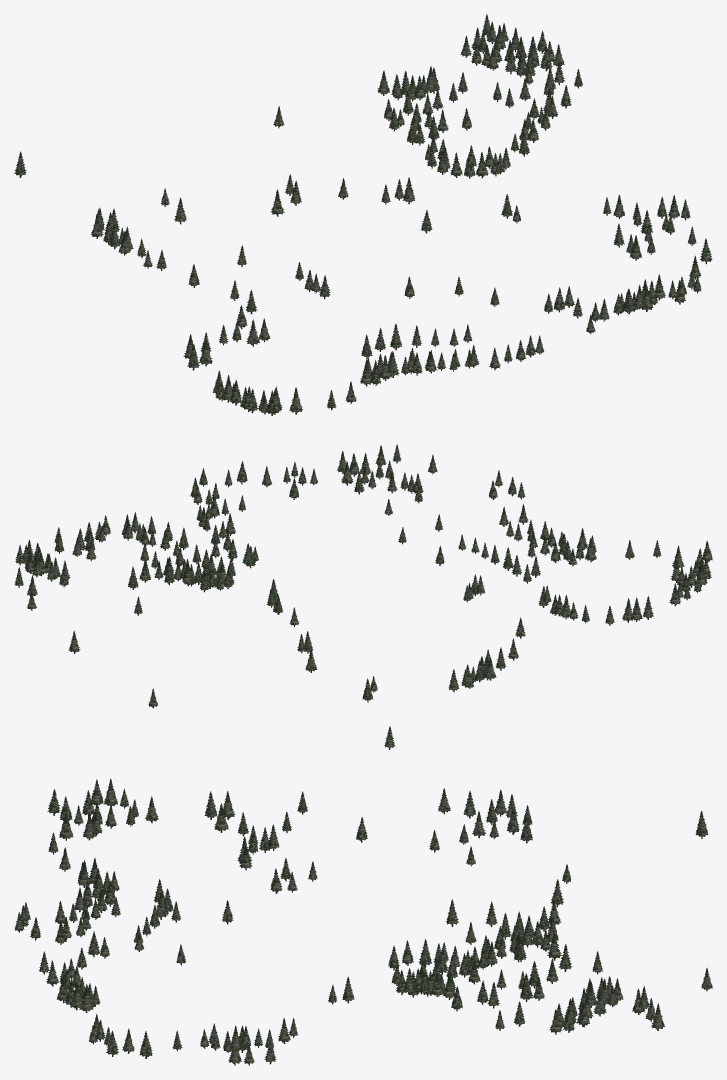
Rendered from Pinares_LOD1.glb.
3 renders of one model, top to bottom at view 1: azimuth 30°, elevation 25°; view 2: azimuth 150°, elevation 25°; view 3: azimuth 270°, elevation 25°, orthographic. The views are drawn at different scales.
Bounding box in the file's own units: 325 × 59.6 × 335.
